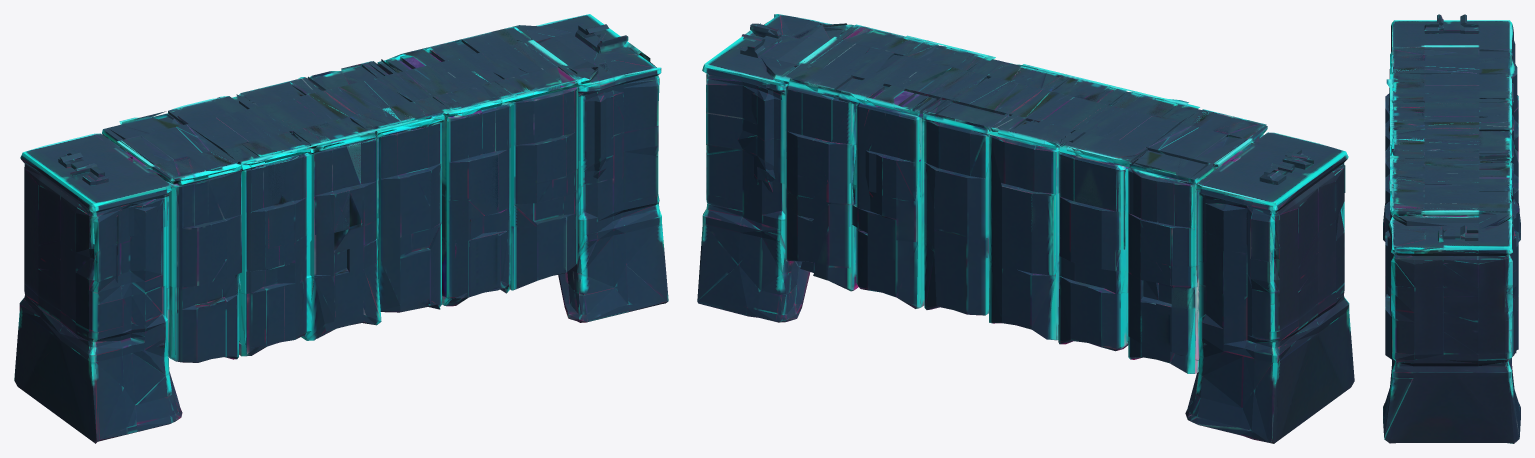
Rendered from wall-block.glb.
The picture shows the model from 3 angles, left to right: view 1: azimuth 30°, elevation 25°; view 2: azimuth 150°, elevation 25°; view 3: azimuth 270°, elevation 25°; orthographic projection. The views are drawn at different scales.
Size of the model in its own units: 4.32 by 1.8 by 1.09.
1 material, 1 textured.
